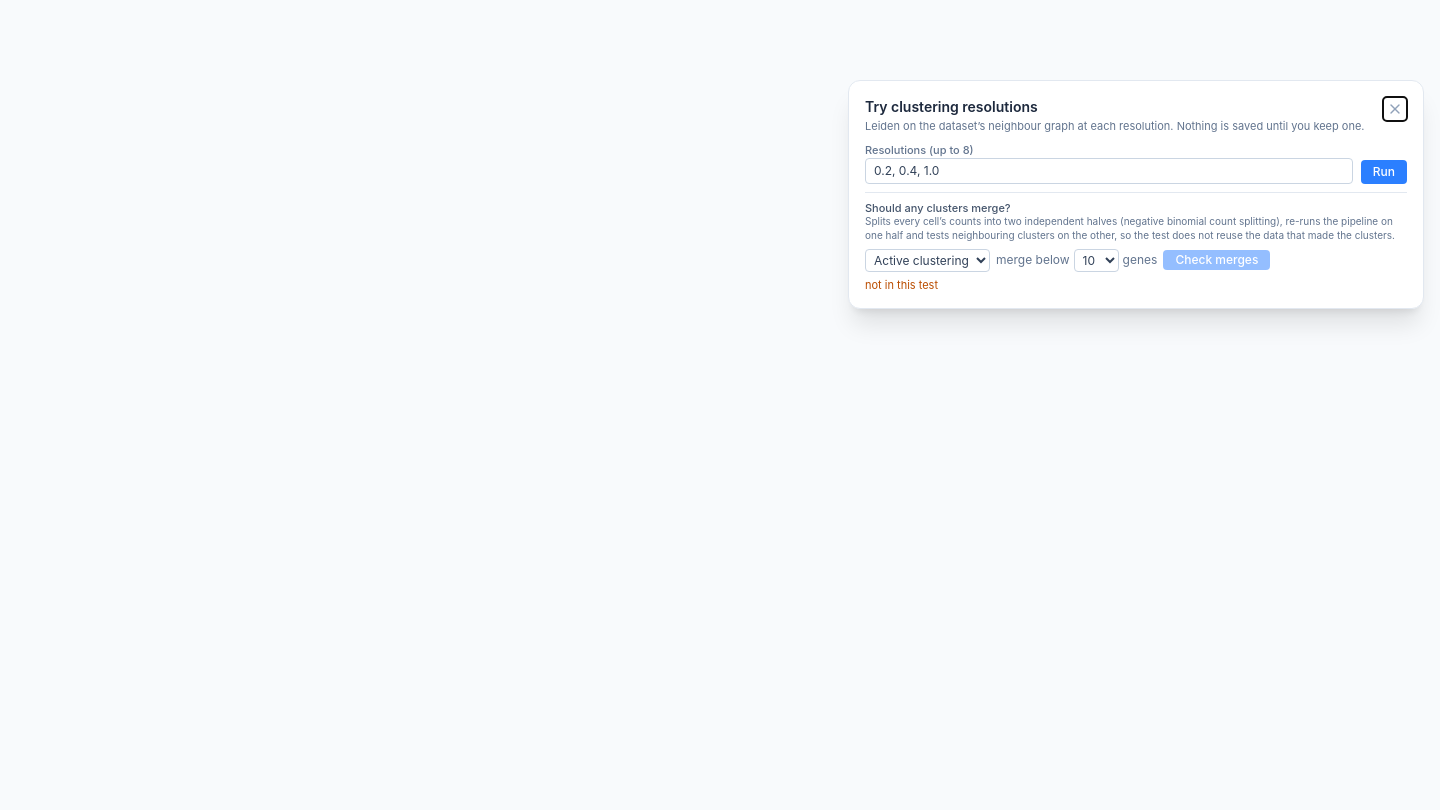
Scenario: ResolutionSweepPanel › refuses resolutions it can't run
Replace the text in the field showing "0.2, 0.4, 1.0" with "0.5, 9": (1109, 171) [865, 158, 1353, 184]
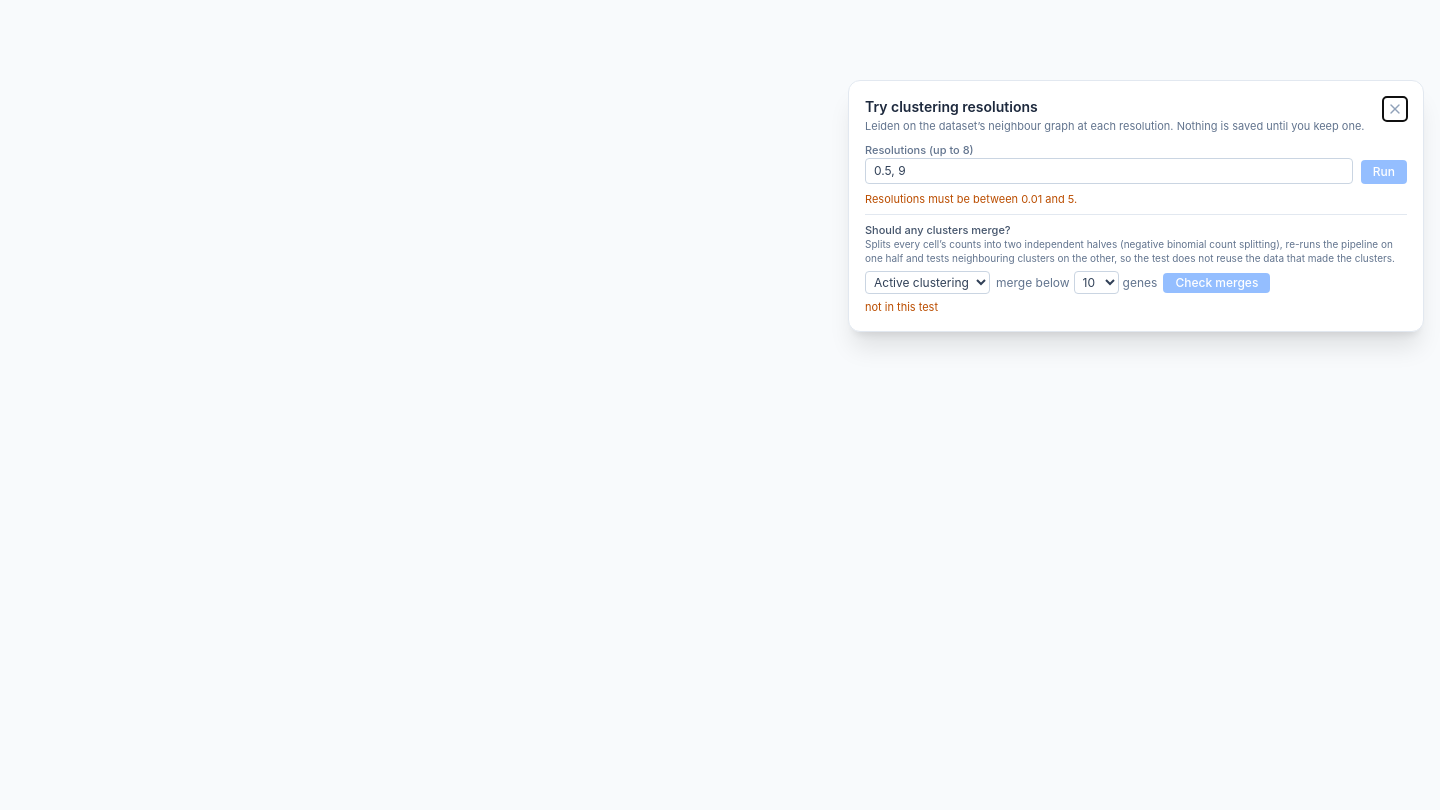
Expected: the text "Resolutions must be between 0.01 and 5." is shown, [865, 192, 1077, 206]
Expected: the button "Run" is disabled, [1361, 160, 1407, 184]
